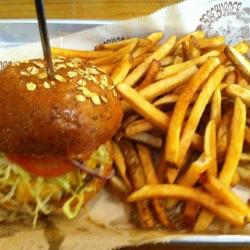burger: (1, 50, 111, 219)
fries: (107, 38, 243, 227)
